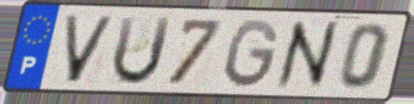0: (337, 21, 391, 94)
7: (165, 17, 225, 89)
G: (222, 17, 282, 91)
N: (273, 18, 341, 93)
U: (109, 14, 175, 88)
V: (61, 13, 119, 86)
